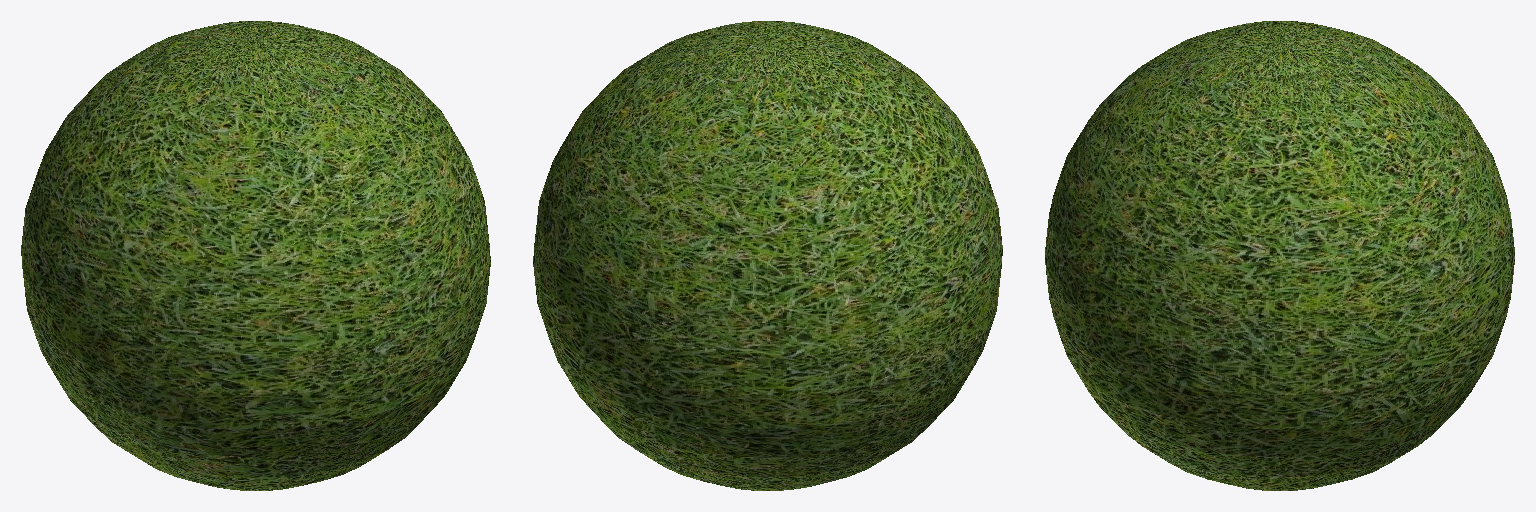
3 renders of one model, left to right at view 1: azimuth 30°, elevation 25°; view 2: azimuth 150°, elevation 25°; view 3: azimuth 270°, elevation 25°, orthographic.
Parts seen in each view (by area): view 1: Sphere7; view 2: Sphere7; view 3: Sphere7.
Boxes of the visible parts, x1=… form: Sphere7: x1=21, y1=21, x2=490, y2=490; Sphere7: x1=533, y1=21, x2=1002, y2=490; Sphere7: x1=1045, y1=21, x2=1514, y2=490.
Size of the model in its own units: 2 by 2 by 2.
Materials: 1 (1 with a texture image).